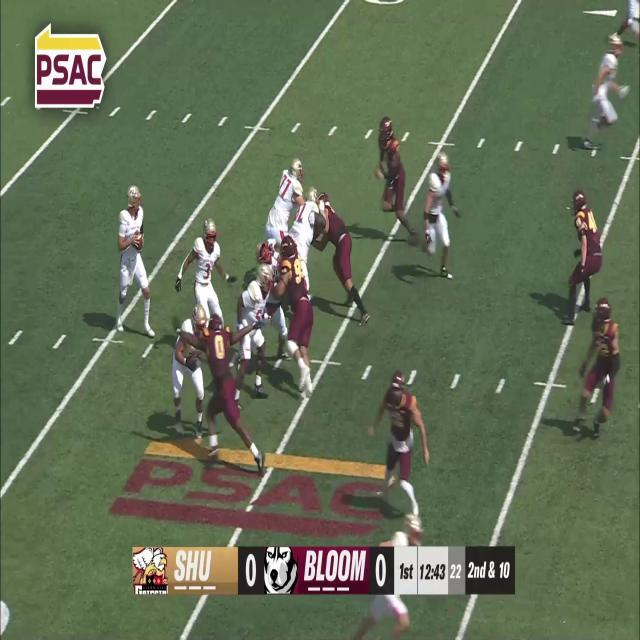football: (134, 230, 144, 252)
